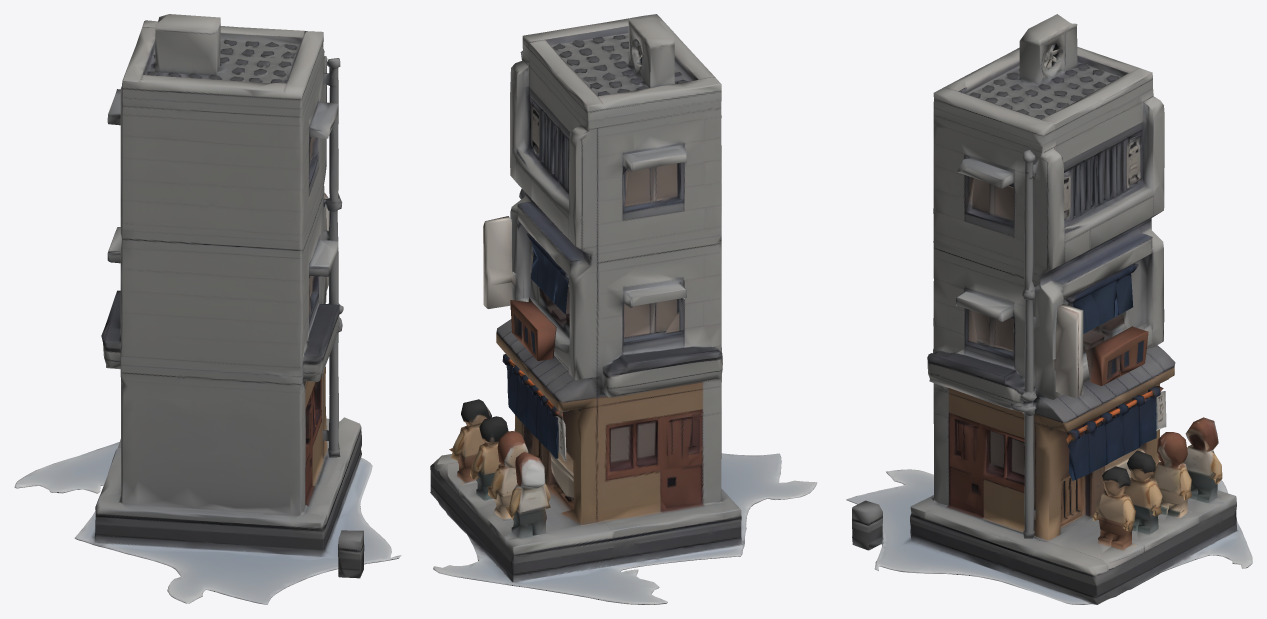
File: hyotan.glb
3 renders of one model, left to right at view 1: azimuth 30°, elevation 25°; view 2: azimuth 150°, elevation 25°; view 3: azimuth 270°, elevation 25°, orthographic. The views are drawn at different scales.
Parts seen in each view (by area): view 1: tripo_node_27cd8405-3908-46f2-ad7c-bcadb0999a69; view 2: tripo_node_27cd8405-3908-46f2-ad7c-bcadb0999a69; view 3: tripo_node_27cd8405-3908-46f2-ad7c-bcadb0999a69.
Part boxes in pixels (bbox=[...]): tripo_node_27cd8405-3908-46f2-ad7c-bcadb0999a69: bbox=[14, 14, 401, 604]; tripo_node_27cd8405-3908-46f2-ad7c-bcadb0999a69: bbox=[430, 14, 817, 604]; tripo_node_27cd8405-3908-46f2-ad7c-bcadb0999a69: bbox=[846, 14, 1252, 604].
Bounding box in the file's own units: 0.6267 × 1 × 0.7587.
Materials: 1 (1 with a texture image).
